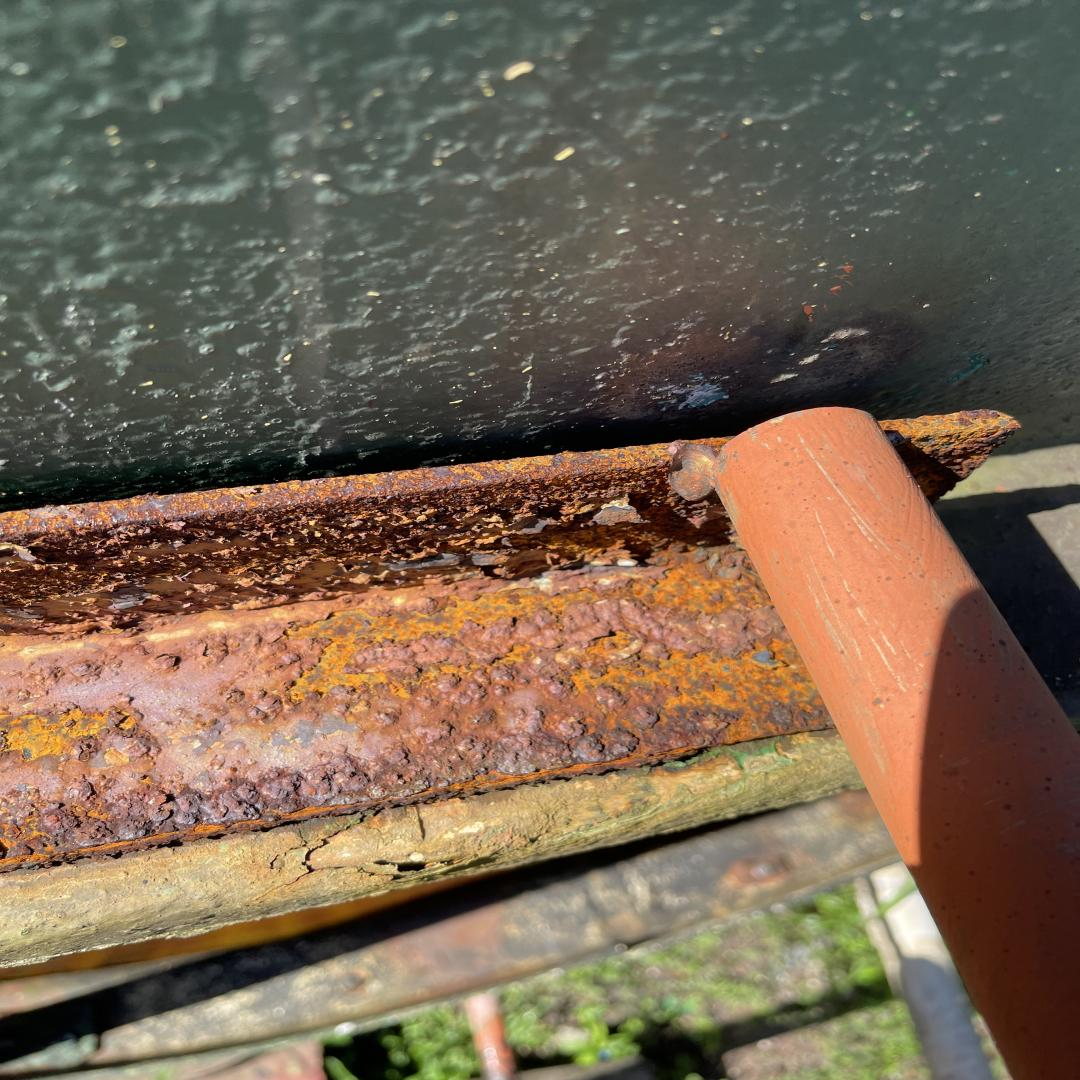Metal corroido: (0, 442, 860, 974), (880, 410, 1017, 507)
